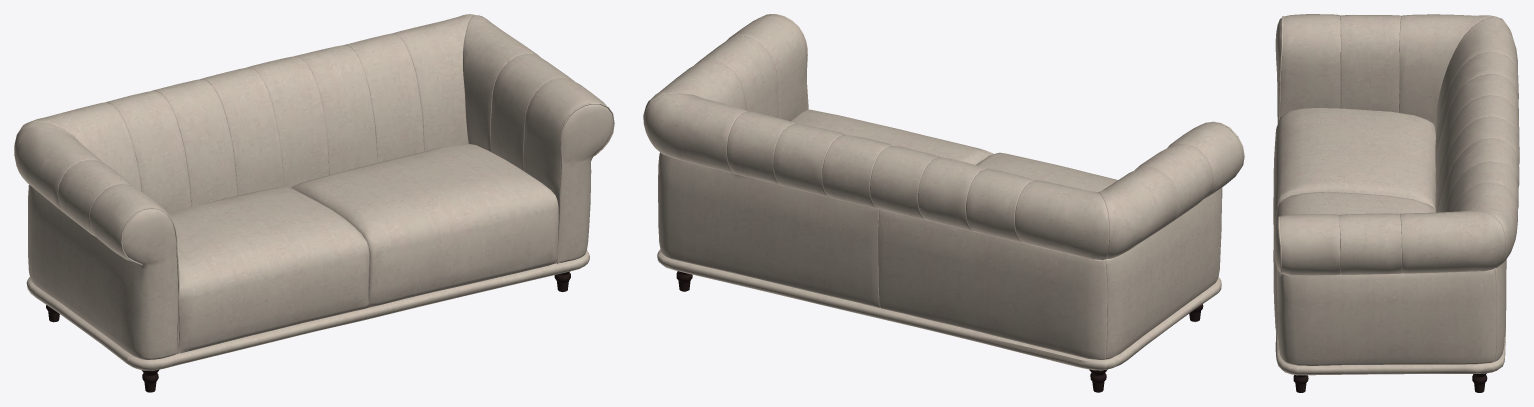
File: cover-lejde-jasnobezowy-brazowy.glb
The picture shows the model from 3 angles, left to right: view 1: azimuth 30°, elevation 25°; view 2: azimuth 150°, elevation 25°; view 3: azimuth 270°, elevation 25°; orthographic projection. The views are drawn at different scales.
Visible parts, largest first — view 1: Mesh_0; view 2: Mesh_0; view 3: Mesh_0.
Boxes of the visible parts, x1,y1,x2,y2 form: Mesh_0: (14, 14, 614, 392); Mesh_0: (643, 14, 1244, 392); Mesh_0: (1273, 14, 1519, 392).
Size of the model in its own units: 1.94 by 0.7399 by 0.9.
2 materials, 2 textured.
